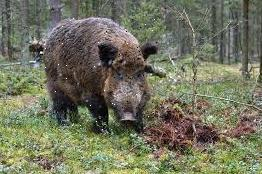Hog: (41, 17, 160, 132)
